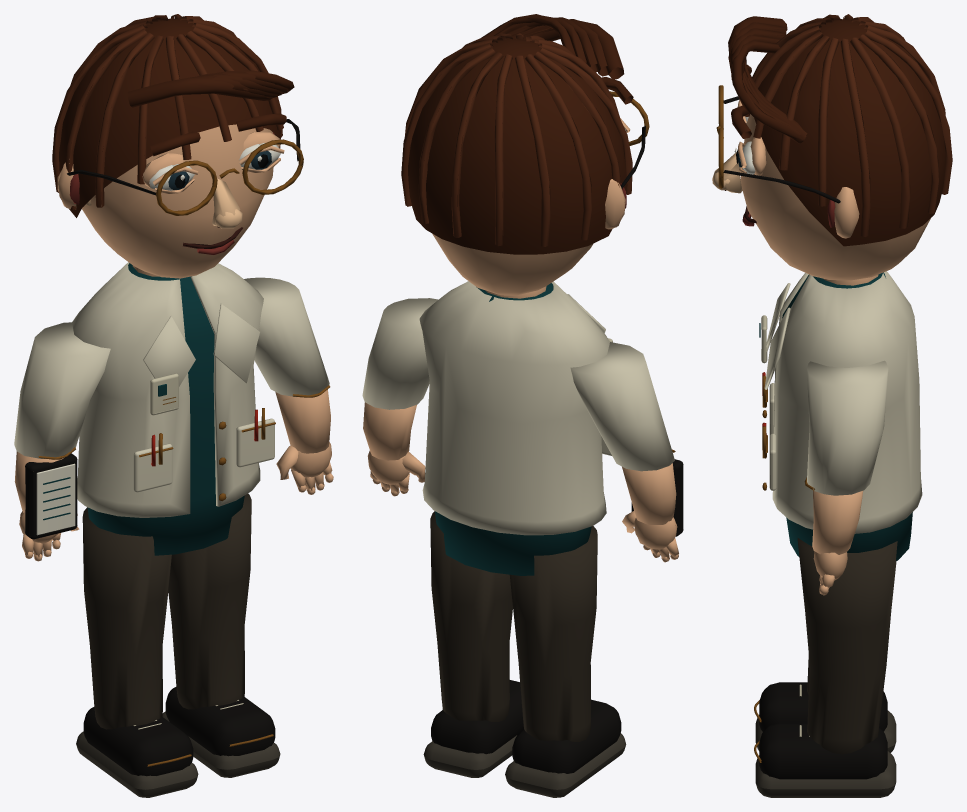
Rendered from doctor-45.glb.
3 renders of one model, left to right at view 1: azimuth 30°, elevation 25°; view 2: azimuth 150°, elevation 25°; view 3: azimuth 270°, elevation 25°, orthographic. The views are drawn at different scales.
Visible parts, largest first — view 1: Head, Body, LegL, LegR, ArmL, ArmR; view 2: Head, Body, LegL, LegR, ArmL, ArmR; view 3: Head, Body, LegR, ArmR, LegL.
Boxes of the visible parts, x1,y1,x2,y2 form: Head: [52, 14, 303, 278]; Body: [72, 262, 275, 555]; LegL: [76, 507, 198, 797]; LegR: [162, 493, 280, 777]; ArmL: [14, 322, 110, 561]; ArmR: [244, 277, 333, 494]; Head: [401, 14, 649, 295]; Body: [419, 281, 612, 575]; LegL: [505, 526, 626, 797]; LegR: [423, 511, 523, 777]; ArmL: [570, 342, 683, 562]; ArmR: [362, 298, 438, 496]; Head: [712, 14, 952, 280]; Body: [759, 271, 922, 561]; LegR: [754, 538, 897, 797]; ArmR: [804, 360, 888, 595]; LegL: [754, 654, 896, 752].
Size of the model in its own units: 0.5848 by 1.31 by 0.3869.
